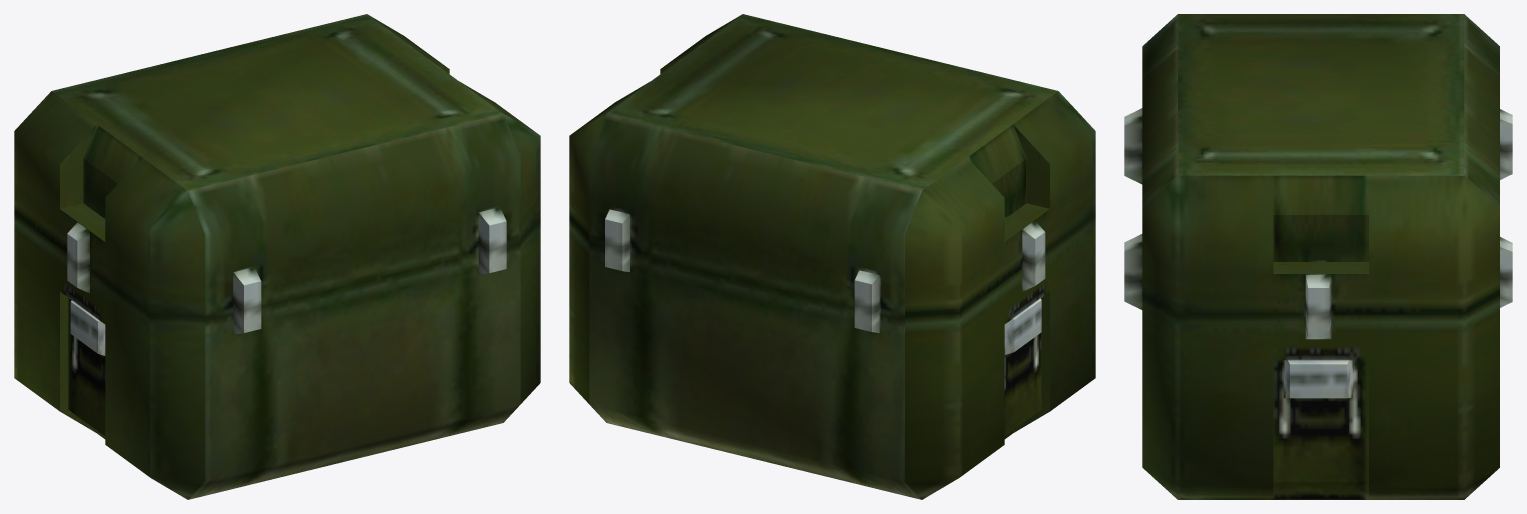
The model's file is fm_case01.fbx.
The picture shows the model from 3 angles, left to right: view 1: azimuth 30°, elevation 25°; view 2: azimuth 150°, elevation 25°; view 3: azimuth 270°, elevation 25°; orthographic projection. The views are drawn at different scales.
Visible parts, largest first — view 1: mesh_0; view 2: mesh_0; view 3: mesh_0.
Part boxes in pixels (left/top/right/bottom): mesh_0: left=14, top=14, right=540, bottom=499; mesh_0: left=569, top=14, right=1095, bottom=499; mesh_0: left=1124, top=14, right=1512, bottom=499.
Bounding box in the file's own units: 55.87 × 40 × 43.44.
1 material, 1 textured.
